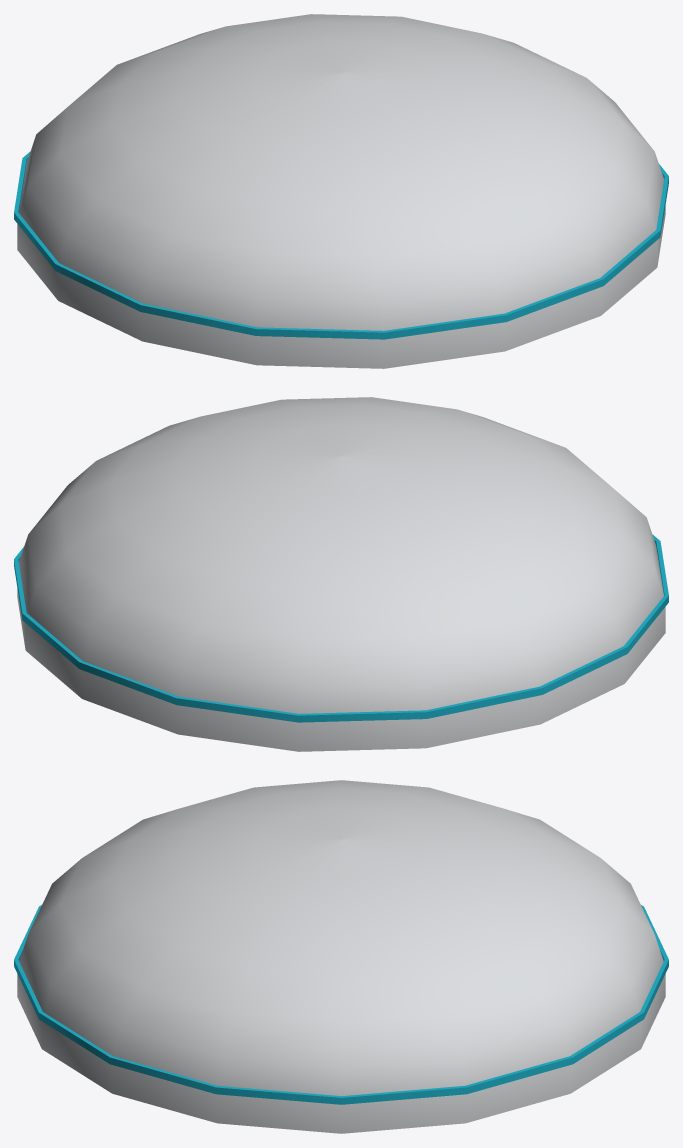
File: c1_feeder.obj
3 renders of one model, top to bottom at view 1: azimuth 30°, elevation 25°; view 2: azimuth 150°, elevation 25°; view 3: azimuth 270°, elevation 25°, orthographic.
Parts seen in each view (by area): view 1: c1_feeder; view 2: c1_feeder; view 3: c1_feeder.
Part boxes in pixels (x1,y1,x2,y2): c1_feeder: (14, 14, 668, 368); c1_feeder: (14, 397, 668, 751); c1_feeder: (14, 780, 668, 1133).
Bounding box in the file's own units: 1.21 × 0.401 × 1.21.
